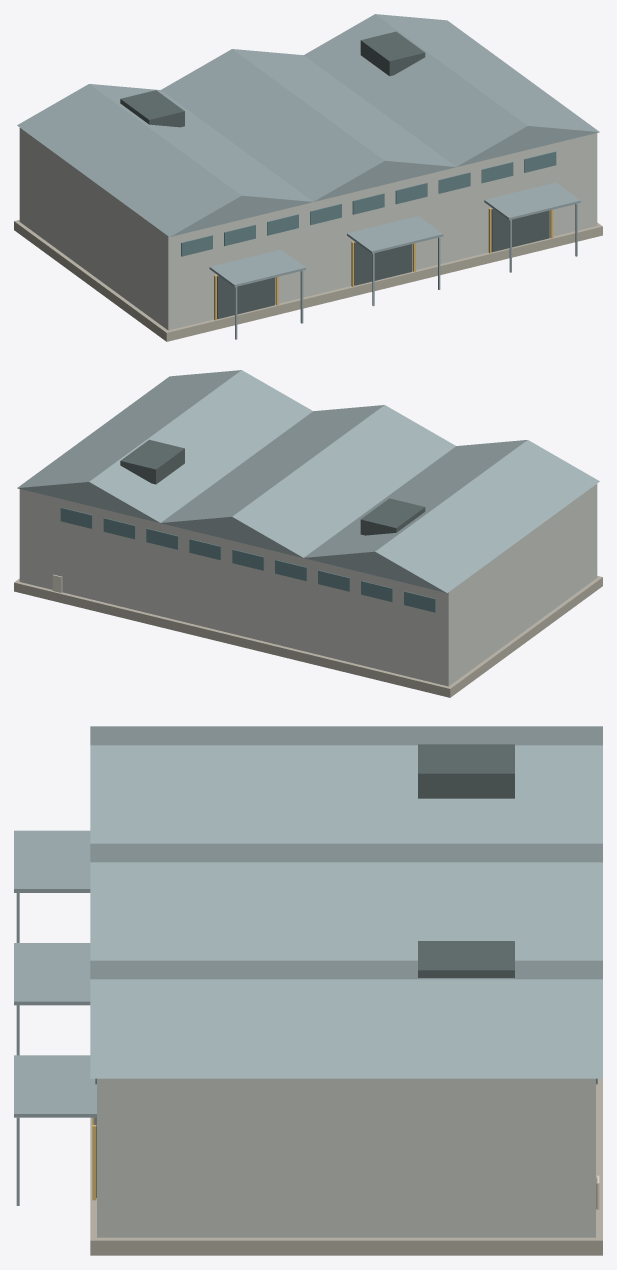
The picture shows the model from 3 angles, top to bottom: view 1: azimuth 30°, elevation 25°; view 2: azimuth 150°, elevation 25°; view 3: azimuth 270°, elevation 25°; orthographic projection. The views are drawn at different scales.
Size of the model in its own units: 61 by 17.5 by 42.5.
